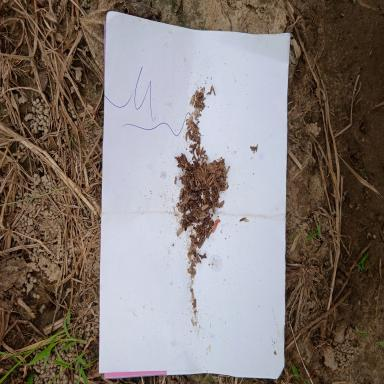pbw: (198, 237, 206, 248), (189, 94, 195, 106), (188, 241, 193, 255), (176, 227, 184, 235), (188, 116, 193, 128), (218, 200, 225, 208), (192, 143, 197, 154), (201, 204, 209, 210), (202, 190, 206, 201), (194, 102, 201, 108), (200, 149, 206, 156), (176, 204, 181, 212), (188, 130, 192, 140), (225, 166, 230, 174), (195, 148, 199, 157), (200, 146, 204, 154), (185, 132, 188, 142), (189, 144, 196, 148), (193, 300, 196, 308), (198, 145, 200, 155)
